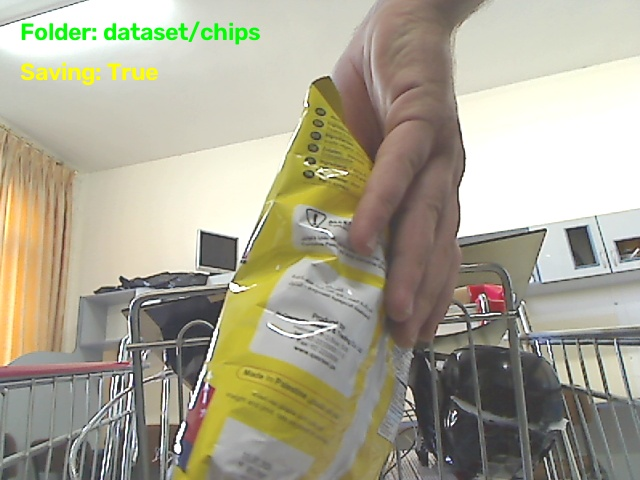chips: (172, 77, 409, 479)
